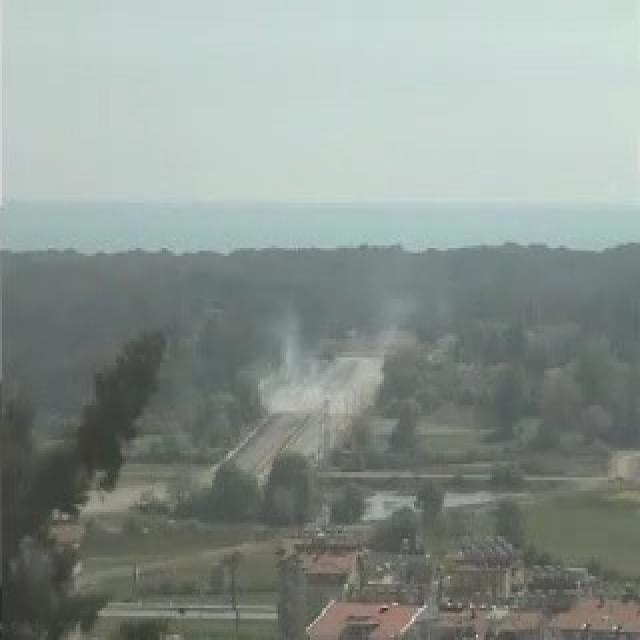smoke: (264, 332, 360, 411)
